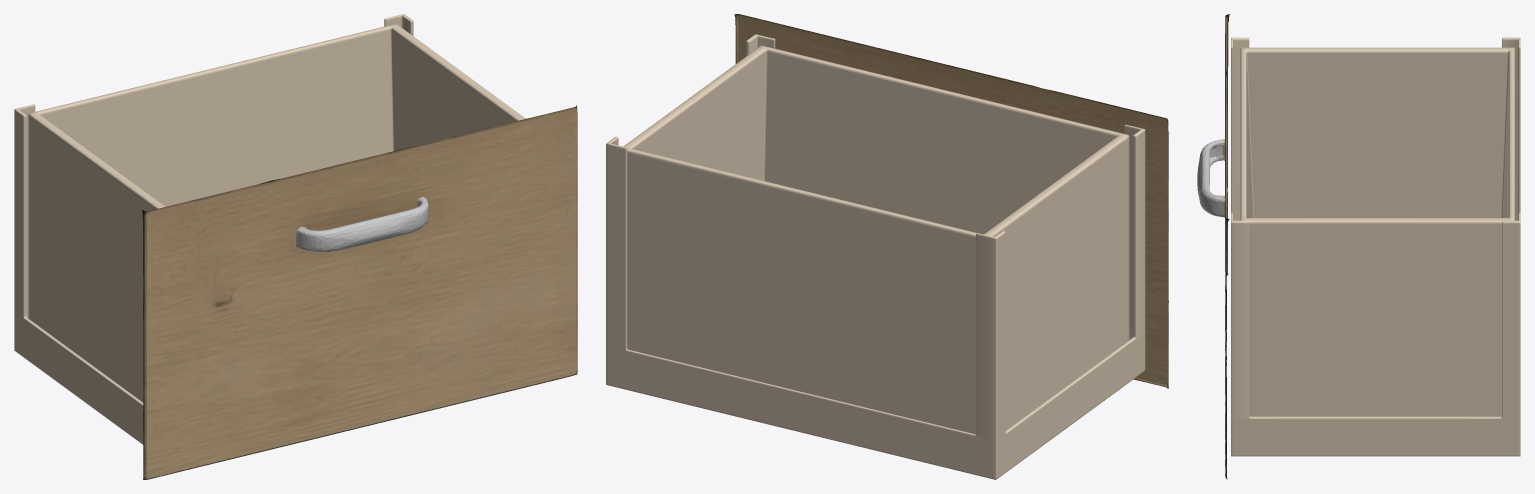
File: drawer_top.glb
3 views of the same model, side by side, from view 1: azimuth 30°, elevation 25°; view 2: azimuth 150°, elevation 25°; view 3: azimuth 270°, elevation 25° (orthographic). The views are drawn at different scales.
Visible parts, largest first — view 1: source_front_cap_0, prefab_drawer_body_1; view 2: prefab_drawer_body_1, source_front_cap_0; view 3: prefab_drawer_body_1, source_front_cap_0.
Part boxes in pixels (<box>): source_front_cap_0: <box>142,105,577,479</box>; prefab_drawer_body_1: <box>14,14,525,444</box>; prefab_drawer_body_1: <box>606,34,1145,479</box>; source_front_cap_0: <box>734,14,1168,388</box>; prefab_drawer_body_1: <box>1231,37,1520,456</box>; source_front_cap_0: <box>1197,14,1230,479</box>.
Size of the model in its own units: 0.4001 by 0.237 by 0.2664.
2 materials, 1 textured.
